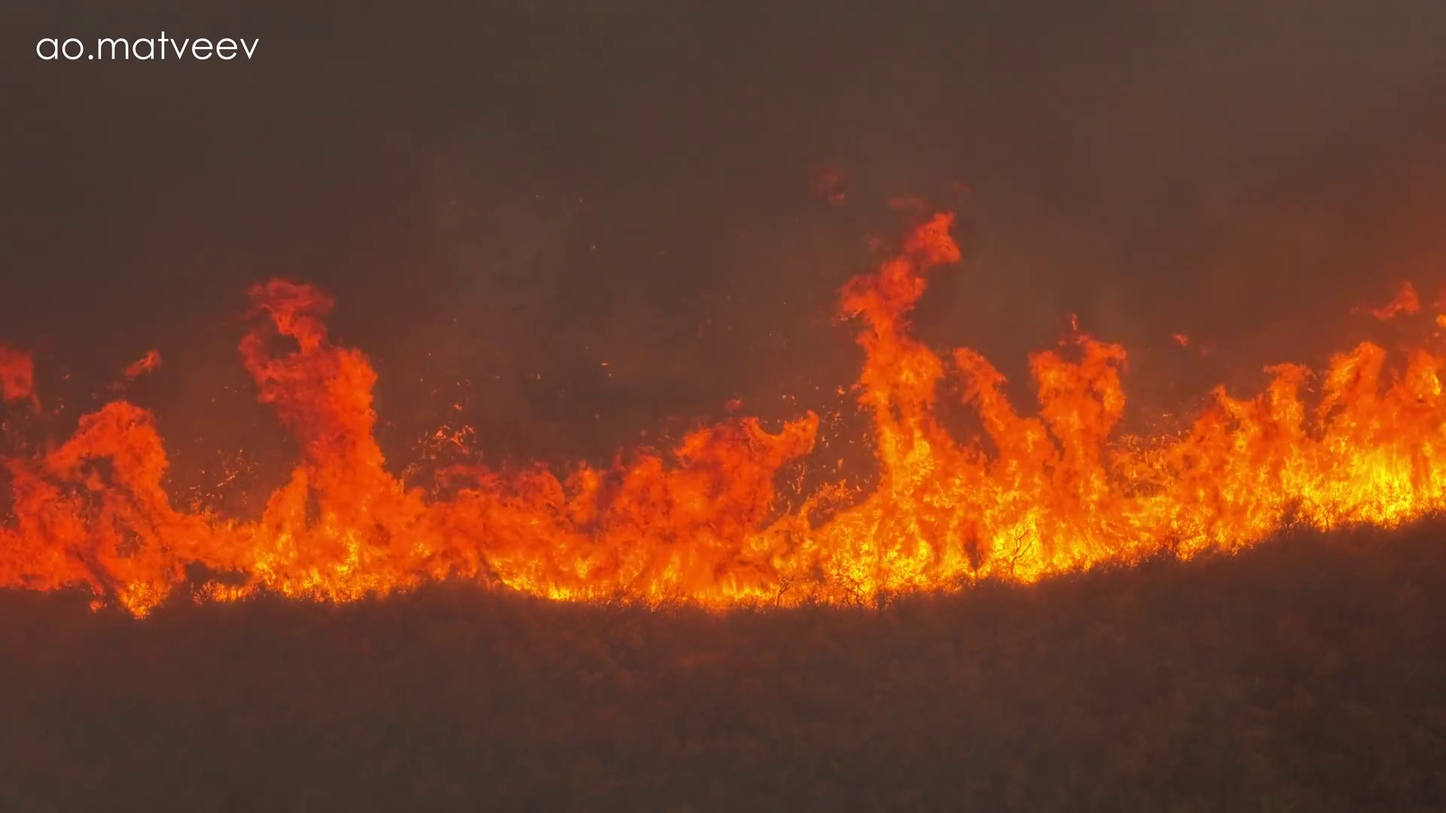forest_fire: (0, 212, 1445, 614), (0, 350, 38, 409), (1373, 283, 1418, 318), (126, 354, 159, 377)
